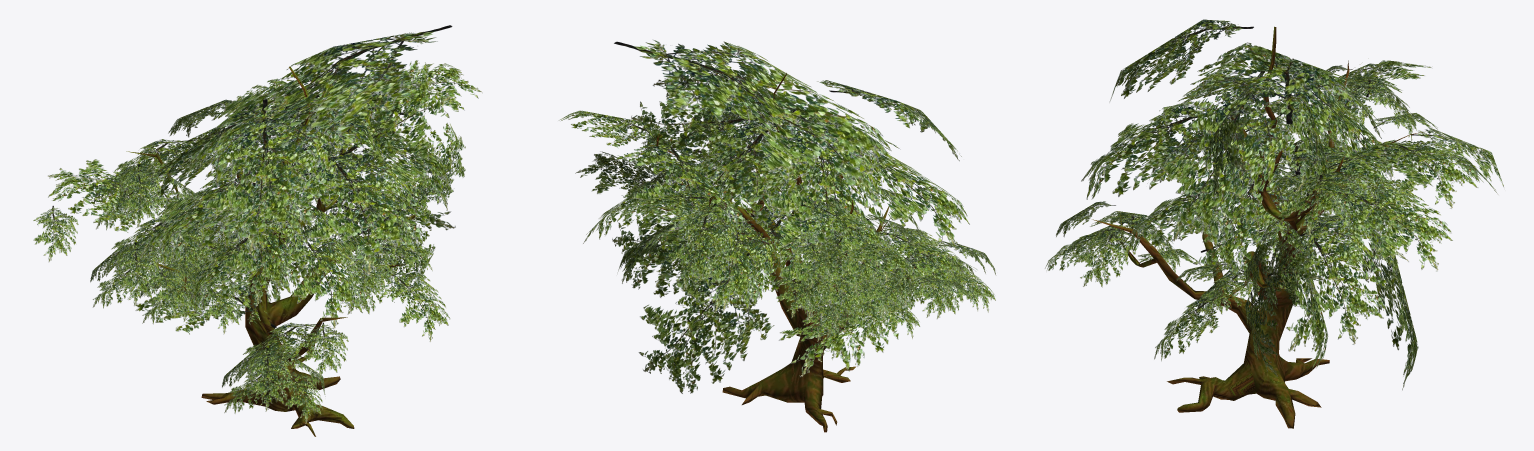
File: tree1.glb
3 renders of one model, left to right at view 1: azimuth 30°, elevation 25°; view 2: azimuth 150°, elevation 25°; view 3: azimuth 270°, elevation 25°, orthographic. The views are drawn at different scales.
Bounding box in the file's own units: 55.89 × 41.57 × 45.99.
Materials: 2 (2 with a texture image).
